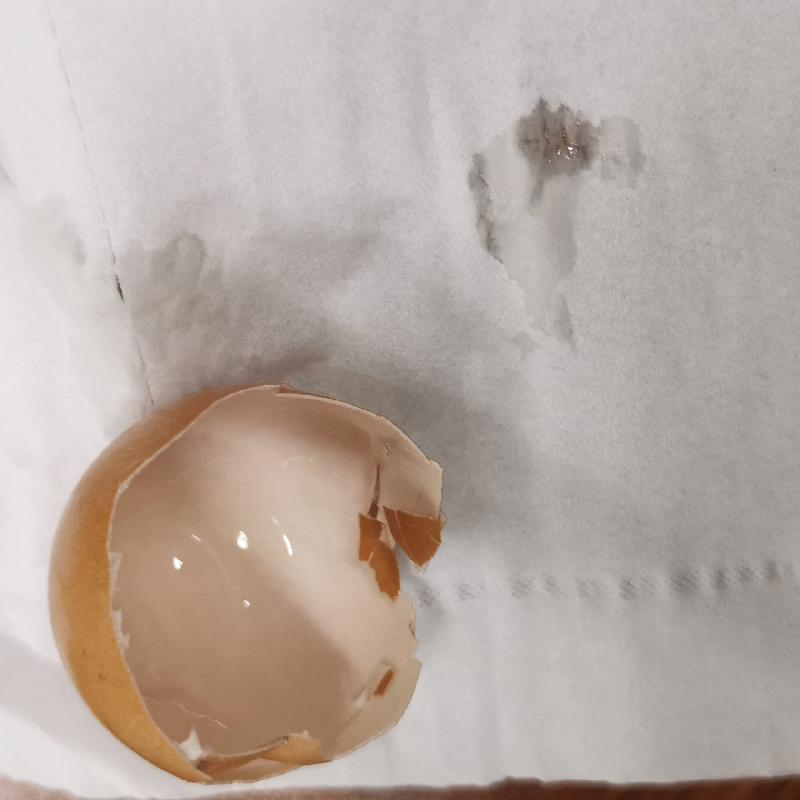eggshell: (44, 382, 452, 795)
